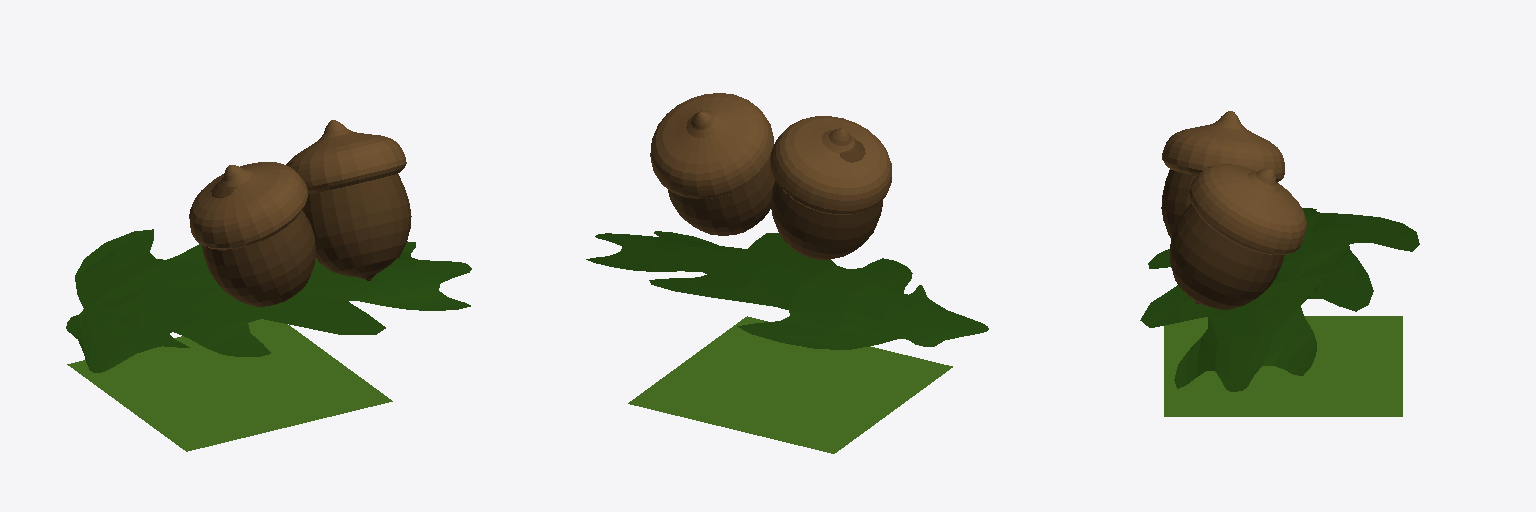
The model's file is acorn-BLENDER-v276.obj.
3 views of the same model, side by side, from view 1: azimuth 30°, elevation 25°; view 2: azimuth 150°, elevation 25°; view 3: azimuth 270°, elevation 25° (orthographic).
Parts seen in each view (by area): view 1: leaf_Plane.001, Ground_Plane.084, acorn_body_Sphere, acorn_head.002_Sphere.004, acorn_body.002_Sphere.005, acorn_head_Sphere.001; view 2: leaf_Plane.001, Ground_Plane.084, acorn_head_Sphere.001, acorn_head.002_Sphere.004, acorn_body.002_Sphere.005, acorn_body_Sphere; view 3: leaf_Plane.001, Ground_Plane.084, acorn_head_Sphere.001, acorn_body_Sphere, acorn_head.002_Sphere.004, acorn_body.002_Sphere.005.
Part boxes in pixels (bbox=[...]): leaf_Plane.001: bbox=[66, 229, 471, 372]; Ground_Plane.084: bbox=[67, 319, 392, 451]; acorn_body_Sphere: bbox=[303, 174, 411, 280]; acorn_head.002_Sphere.004: bbox=[189, 162, 307, 249]; acorn_body.002_Sphere.005: bbox=[202, 181, 315, 306]; acorn_head_Sphere.001: bbox=[286, 120, 406, 194]; leaf_Plane.001: bbox=[586, 231, 988, 349]; Ground_Plane.084: bbox=[628, 316, 952, 453]; acorn_head_Sphere.001: bbox=[650, 93, 773, 198]; acorn_head.002_Sphere.004: bbox=[770, 116, 891, 214]; acorn_body.002_Sphere.005: bbox=[771, 138, 882, 259]; acorn_body_Sphere: bbox=[668, 161, 775, 235]; leaf_Plane.001: bbox=[1140, 208, 1419, 391]; Ground_Plane.084: bbox=[1164, 316, 1402, 416]; acorn_head_Sphere.001: bbox=[1189, 164, 1306, 254]; acorn_body_Sphere: bbox=[1170, 203, 1284, 309]; acorn_head.002_Sphere.004: bbox=[1162, 111, 1284, 181]; acorn_body.002_Sphere.005: bbox=[1161, 169, 1196, 238].
Bounding box in the file's own units: 3.72 × 2.26 × 2.34.